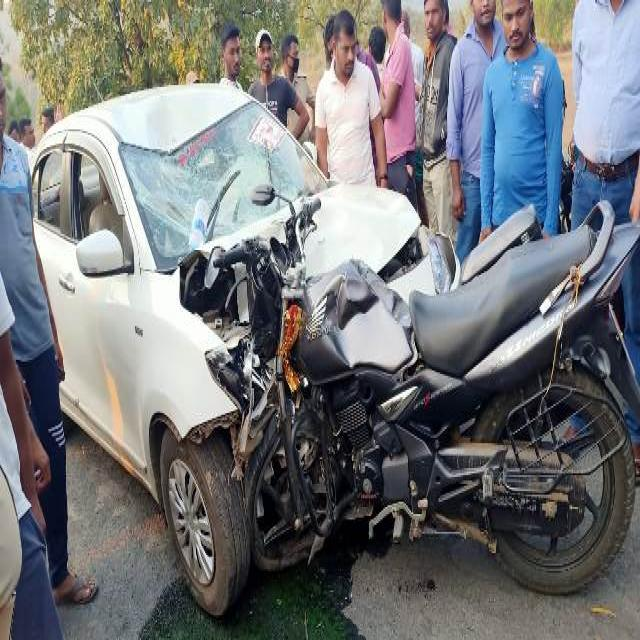accident: (34, 84, 431, 615), (180, 197, 640, 594)
